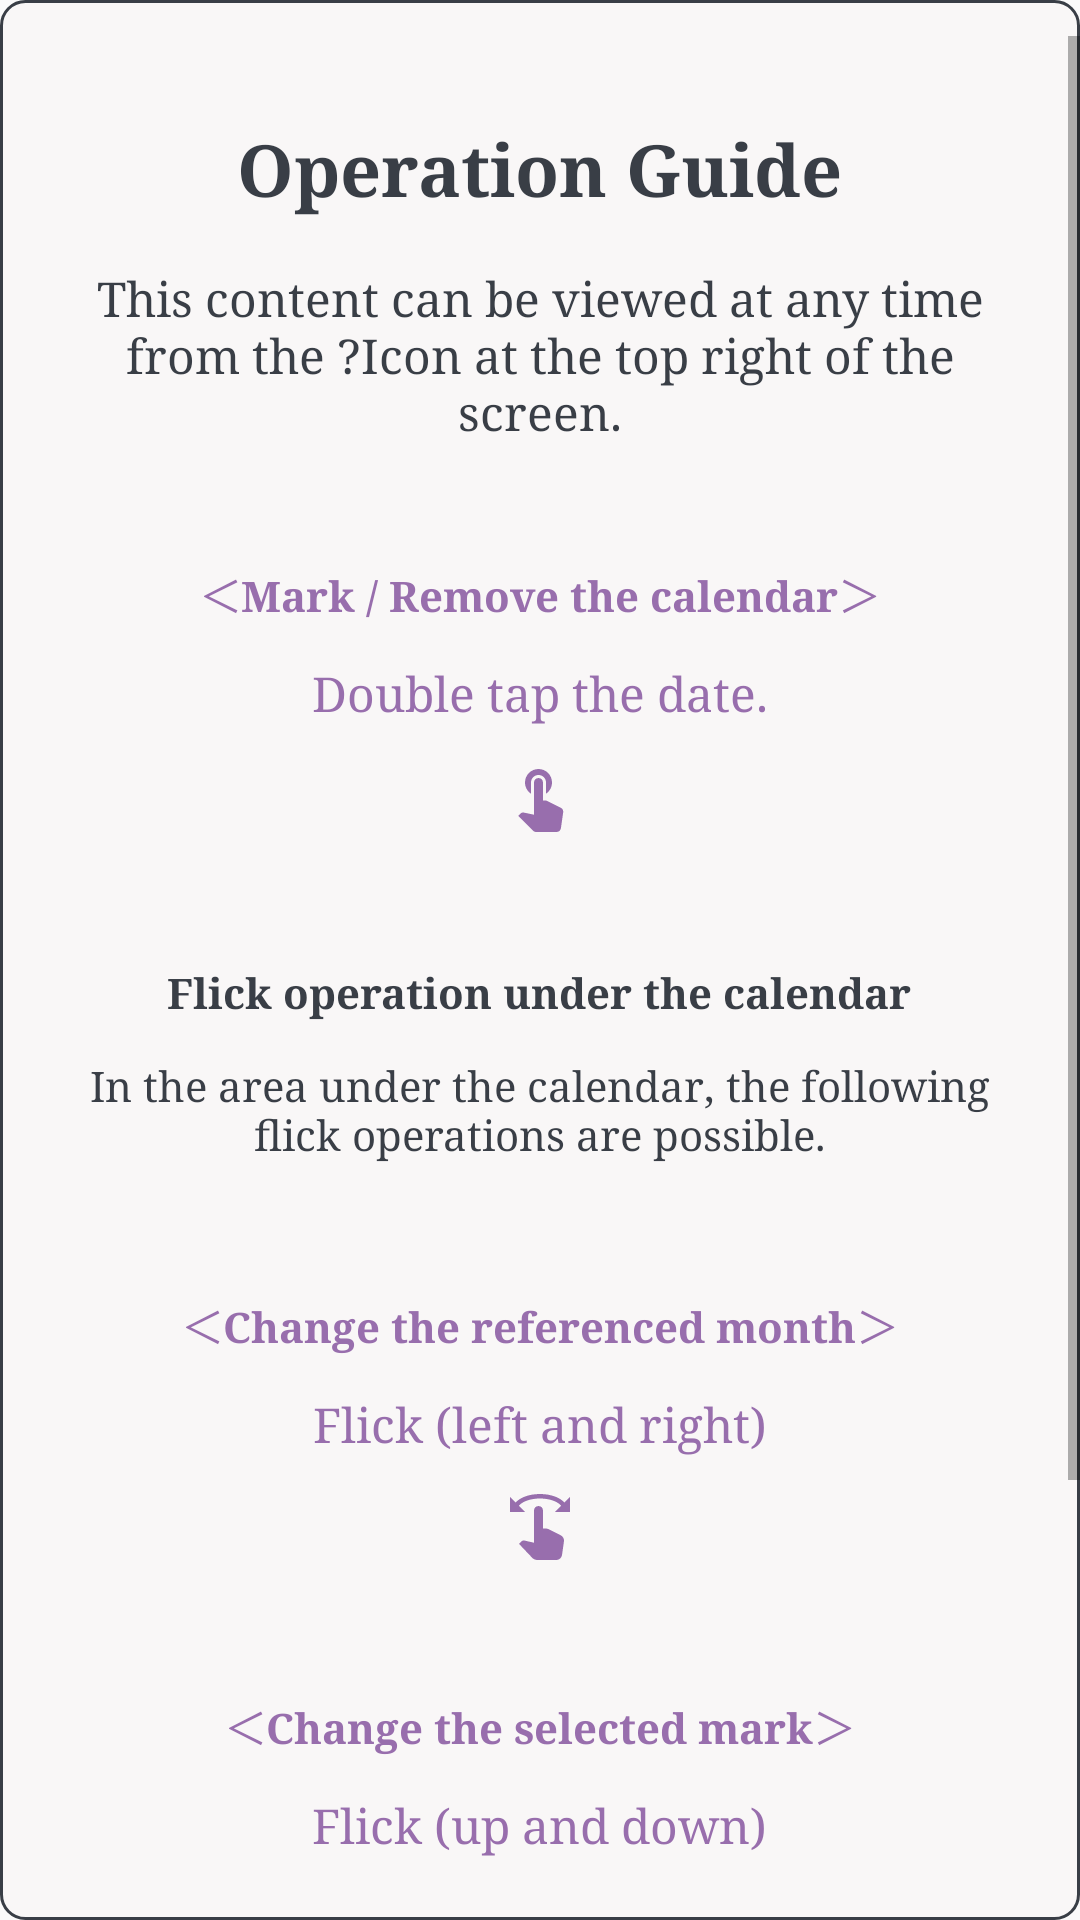

Icons on this 1080 × 1920 Android screen, each with its box as (x1, y1, x2, y2):
swipe horizon: (510, 1494, 570, 1560)
touch: (518, 769, 564, 832)
